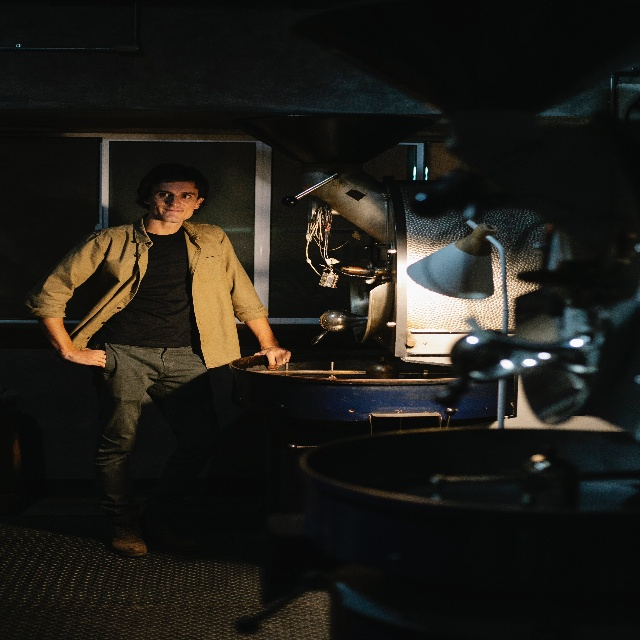Sin_guantes: (255, 348, 290, 374), (69, 347, 106, 370)
